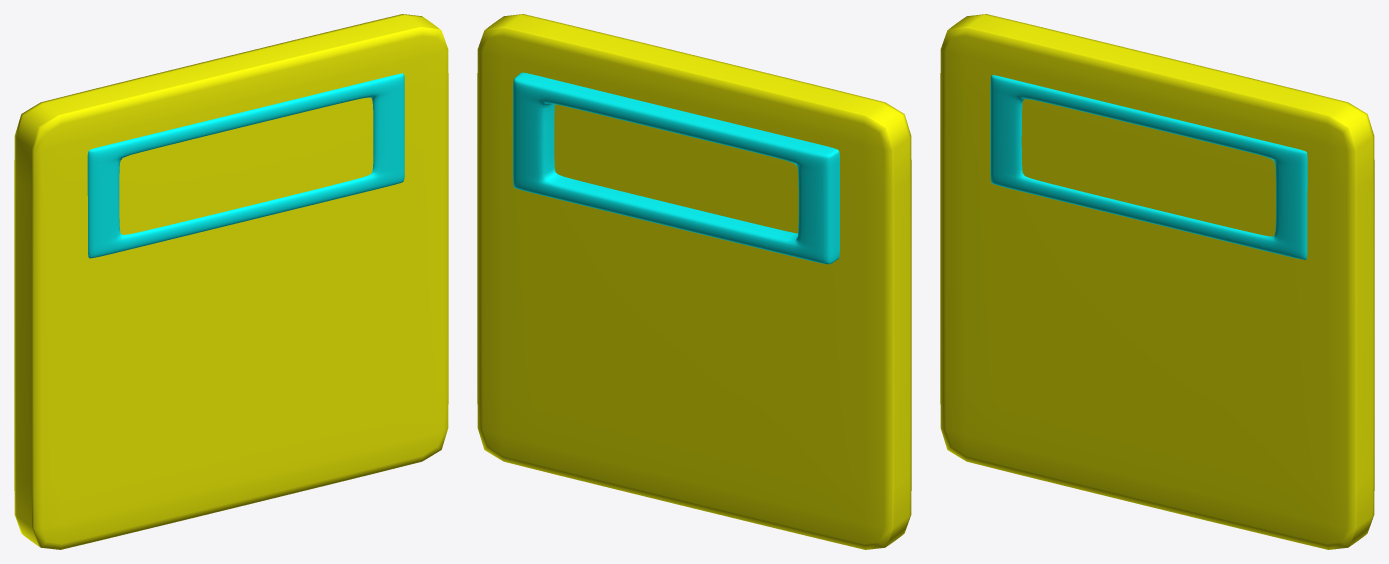
The picture shows the model from 3 angles, left to right: view 1: azimuth 30°, elevation 25°; view 2: azimuth 150°, elevation 25°; view 3: azimuth 330°, elevation 25°; orthographic projection.
Visible parts, largest first — view 1: polySurface975; view 2: polySurface975; view 3: polySurface975.
Part boxes in pixels (bbox=[...]): polySurface975: bbox=[14, 14, 448, 549]; polySurface975: bbox=[477, 14, 911, 549]; polySurface975: bbox=[940, 14, 1374, 549].
Size of the model in its own units: 0.9994 by 0.9994 by 0.1498.
